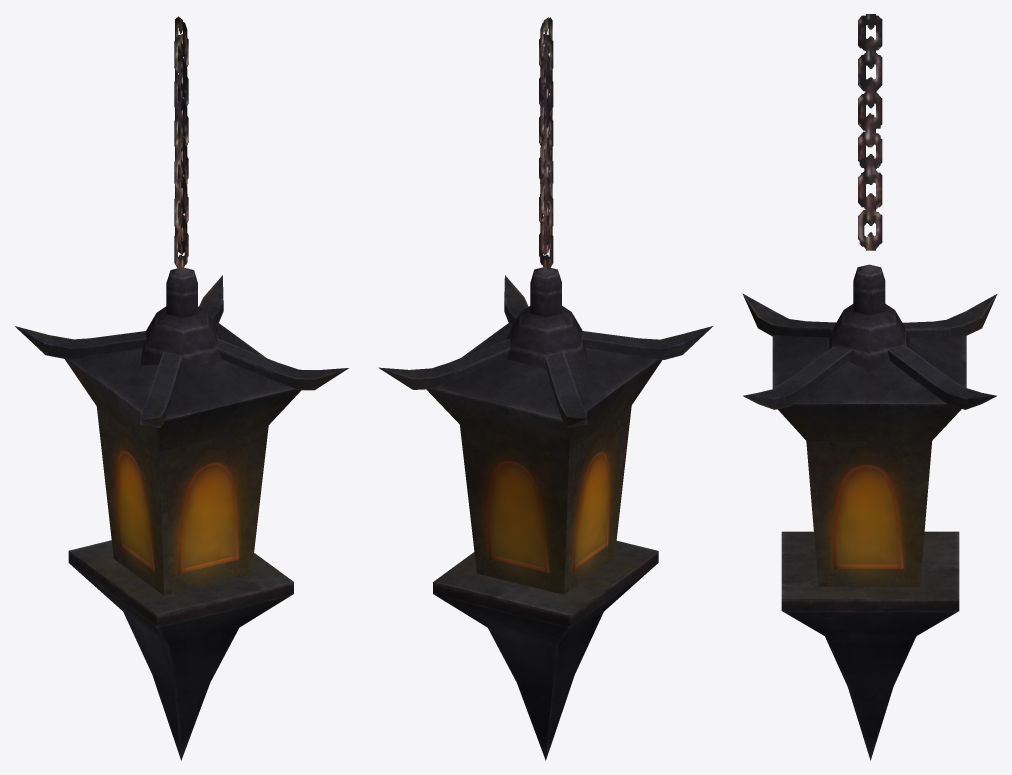
The model's file is SV_AFT_desert_deng_0.FBX.
The picture shows the model from 3 angles, left to right: view 1: azimuth 30°, elevation 25°; view 2: azimuth 150°, elevation 25°; view 3: azimuth 270°, elevation 25°; orthographic projection.
Visible parts, largest first — view 1: SV_AFT_desert_deng_0, SV_AFT_desert_deng_0_lianzi; view 2: SV_AFT_desert_deng_0, SV_AFT_desert_deng_0_lianzi; view 3: SV_AFT_desert_deng_0, SV_AFT_desert_deng_0_lianzi.
Boxes of the visible parts, bbox=[...] form: SV_AFT_desert_deng_0: bbox=[15, 267, 348, 760]; SV_AFT_desert_deng_0_lianzi: bbox=[174, 16, 188, 269]; SV_AFT_desert_deng_0: bbox=[378, 267, 713, 760]; SV_AFT_desert_deng_0_lianzi: bbox=[539, 17, 553, 269]; SV_AFT_desert_deng_0: bbox=[742, 264, 997, 760]; SV_AFT_desert_deng_0_lianzi: bbox=[858, 14, 882, 250].
Size of the model in its own units: 0.5683 by 1.93 by 0.5975.
